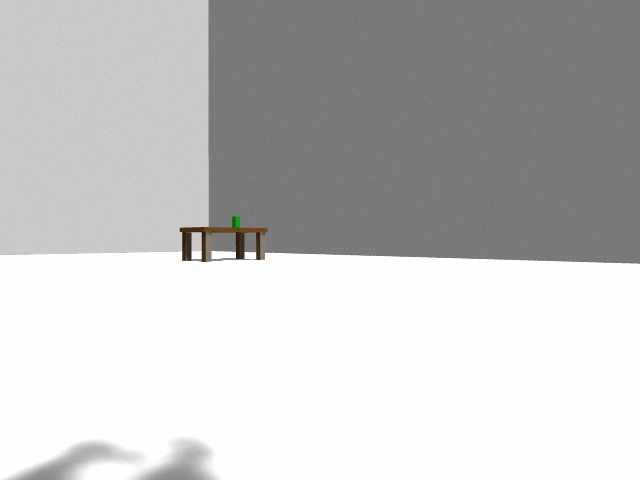green_cube: (232, 216, 240, 228)
